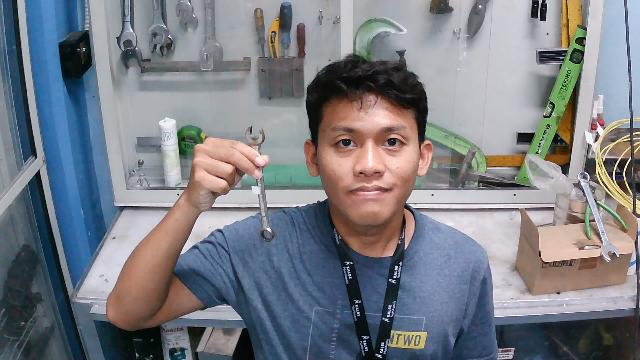kunci_pass_13: (227, 120, 292, 248)
